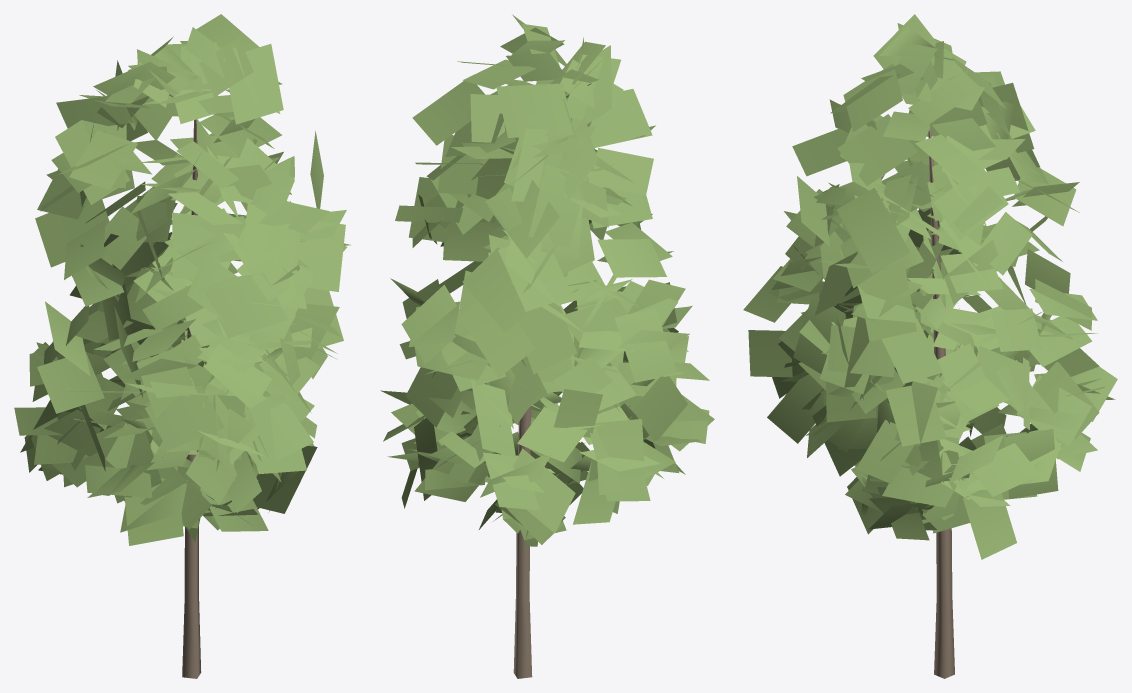
File: Birch_2_lod2.glb
3 renders of one model, left to right at view 1: azimuth 30°, elevation 25°; view 2: azimuth 150°, elevation 25°; view 3: azimuth 270°, elevation 25°, orthographic. The views are drawn at different scales.
Visible parts, largest first — view 1: Birch_2_lod2; view 2: Birch_2_lod2; view 3: Birch_2_lod2.
Boxes of the visible parts, x1,y1,x2,y2 form: Birch_2_lod2: [14, 14, 350, 678]; Birch_2_lod2: [380, 14, 714, 678]; Birch_2_lod2: [743, 14, 1117, 678].
Size of the model in its own units: 8.25 by 17.75 by 9.6.
